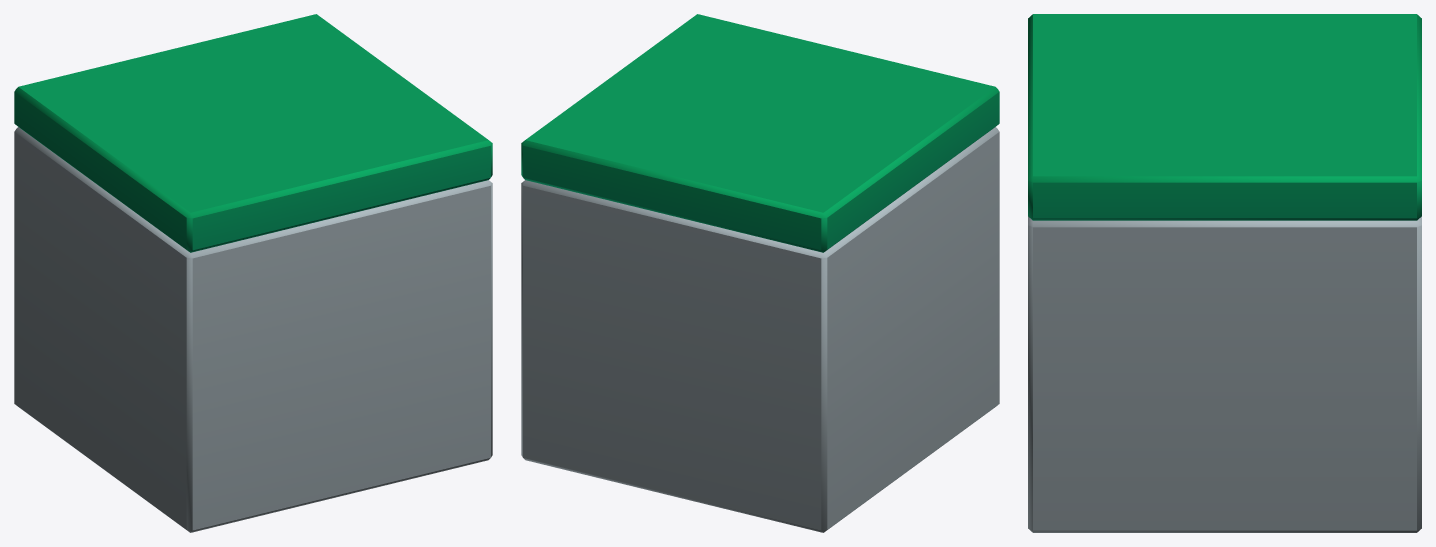
The model's file is platform_4x4x4_green.glb.
3 renders of one model, left to right at view 1: azimuth 30°, elevation 25°; view 2: azimuth 150°, elevation 25°; view 3: azimuth 270°, elevation 25°, orthographic. The views are drawn at different scales.
Visible parts, largest first — view 1: platform_4x4x4_green; view 2: platform_4x4x4_green; view 3: platform_4x4x4_green.
Part boxes in pixels (x1=…): platform_4x4x4_green: x1=14, y1=14, x2=492, y2=532; platform_4x4x4_green: x1=521, y1=14, x2=999, y2=532; platform_4x4x4_green: x1=1028, y1=14, x2=1421, y2=532.
Size of the model in its own units: 4 by 4 by 4.
Materials: 1 (1 with a texture image).
